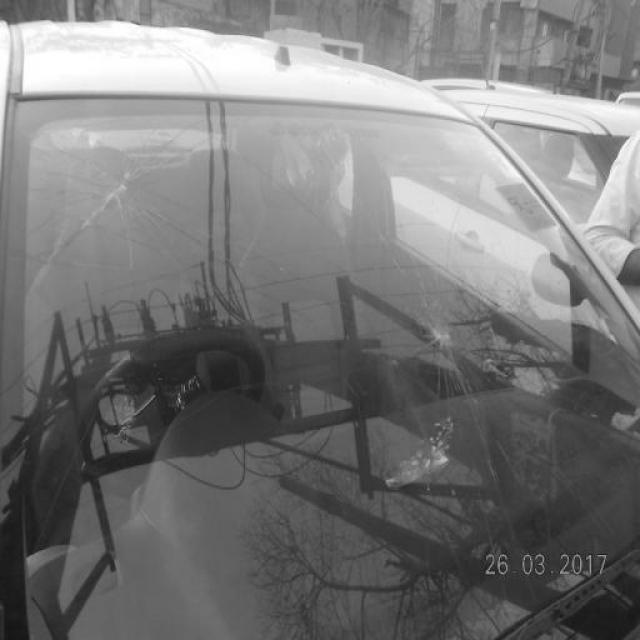crack: (55, 128, 189, 264), (399, 285, 484, 398)
